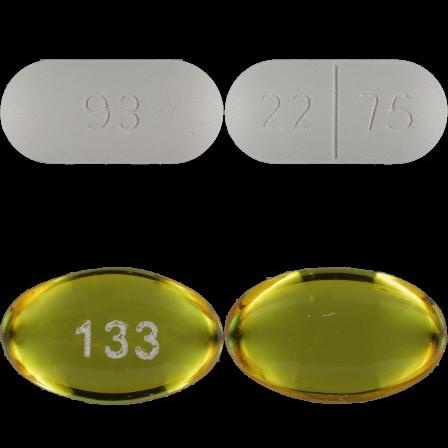68788-9043: (0, 0, 224, 224)
